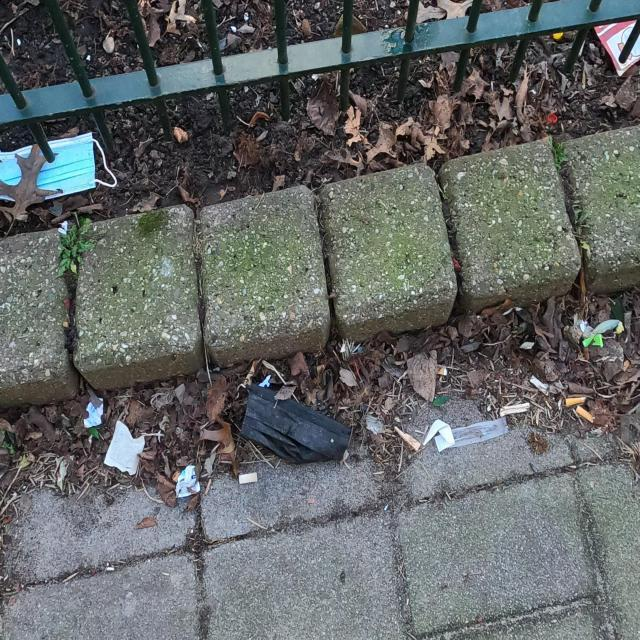Mask: (229, 380, 351, 468), (0, 126, 119, 208)
